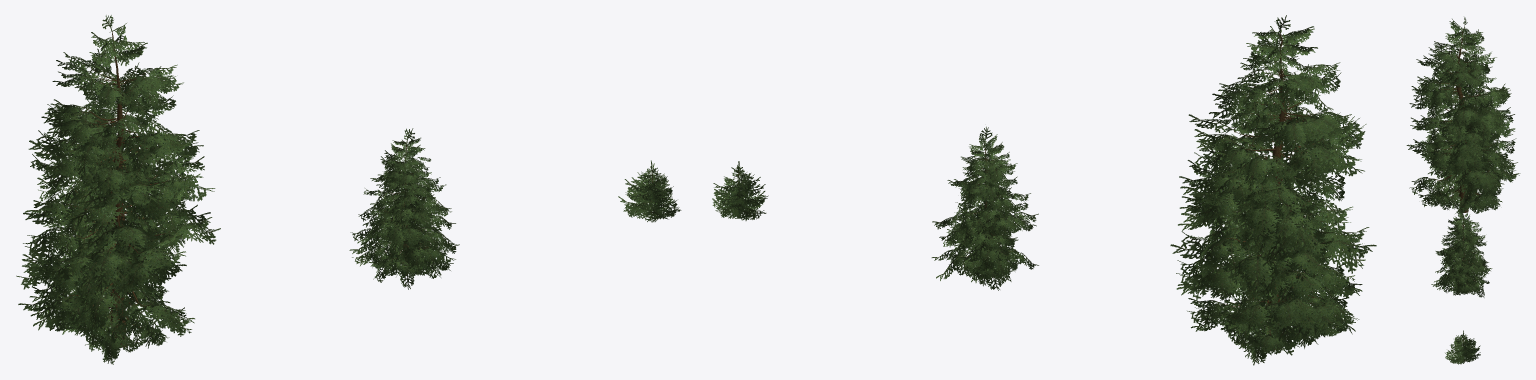
The model's file is fir_trees_lod.glb.
3 views of the same model, side by side, from view 1: azimuth 30°, elevation 25°; view 2: azimuth 150°, elevation 25°; view 3: azimuth 270°, elevation 25° (orthographic). The views are drawn at different scales.
Visible parts, largest first — view 1: Christmas tree_LOD0, Christmas tree_2_LOD0, Christmas tree_3_LOD0; view 2: Christmas tree_LOD0, Christmas tree_2_LOD0, Christmas tree_3_LOD0; view 3: Christmas tree_LOD0, Christmas tree_2_LOD0, Christmas tree_3_LOD0.
Part boxes in pixels (x1,y1,x2,y2): Christmas tree_LOD0: (16,15,220,364); Christmas tree_2_LOD0: (349,128,459,289); Christmas tree_3_LOD0: (618,160,681,222); Christmas tree_LOD0: (1170,15,1376,365); Christmas tree_2_LOD0: (931,126,1038,290); Christmas tree_3_LOD0: (712,161,768,220); Christmas tree_LOD0: (1406,17,1520,215); Christmas tree_2_LOD0: (1431,207,1492,297); Christmas tree_3_LOD0: (1445,330,1480,364).
Size of what is drawn, in the model's own units: 18.76 by 9.3 by 5.04.
Materials: 2 (2 with a texture image).
